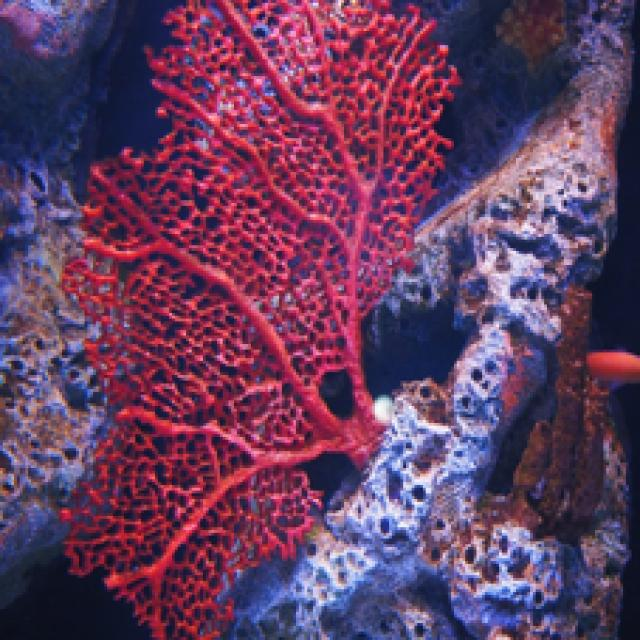Healthy: (63, 1, 458, 638), (506, 286, 616, 542)
